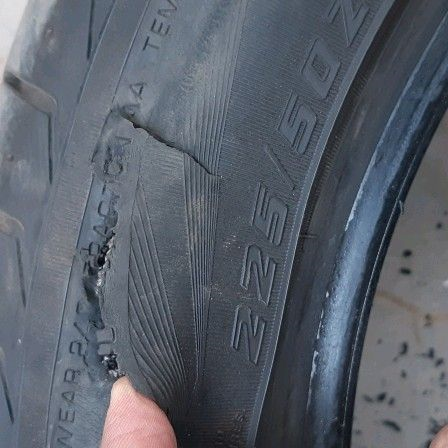cut: (113, 111, 224, 180), (85, 199, 122, 377)
